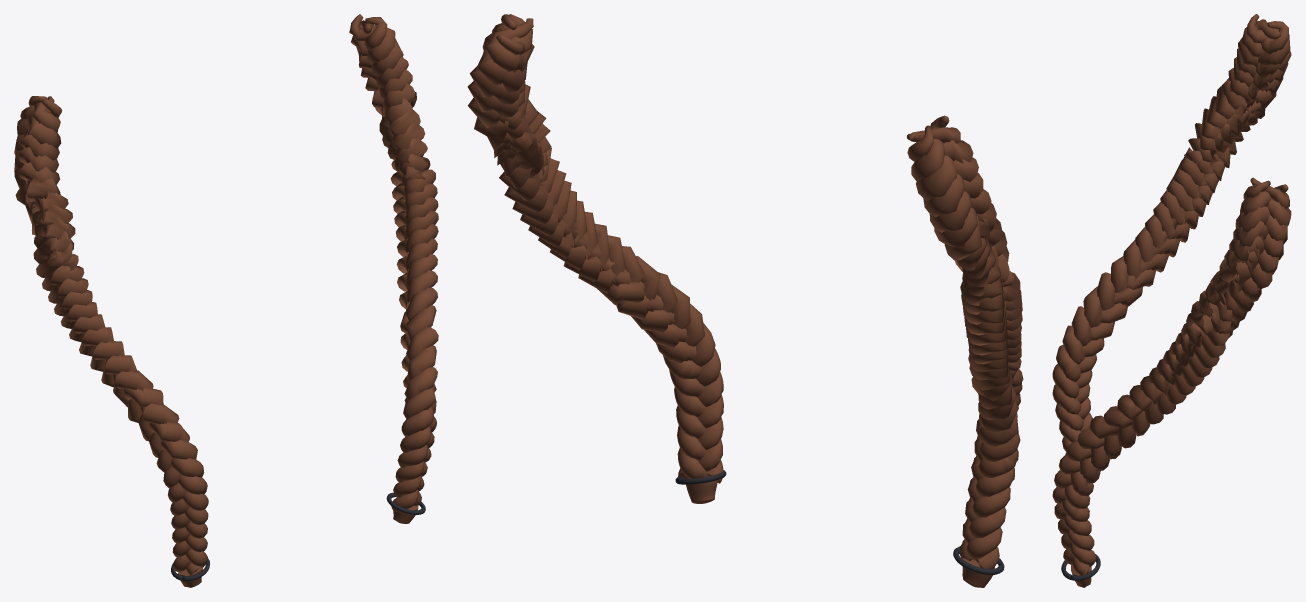
File: twins-none-sweatshirt-default.glb
The picture shows the model from 3 angles, left to right: view 1: azimuth 30°, elevation 25°; view 2: azimuth 150°, elevation 25°; view 3: azimuth 270°, elevation 25°; orthographic projection. The views are drawn at different scales.
Visible parts, largest first — view 1: 226 hairLengths / Hair / chestnut226, 226 hairLengths / Hair / ties226; view 2: 226 hairLengths / Hair / chestnut226, 226 hairLengths / Hair / ties226; view 3: 226 hairLengths / Hair / chestnut226, 226 hairLengths / Hair / ties226.
Boxes of the visible parts, x1,y1,x2,y2 form: 226 hairLengths / Hair / chestnut226: [14, 14, 438, 587]; 226 hairLengths / Hair / ties226: [171, 492, 425, 581]; 226 hairLengths / Hair / chestnut226: [467, 14, 1023, 587]; 226 hairLengths / Hair / ties226: [675, 470, 1004, 574]; 226 hairLengths / Hair / chestnut226: [1052, 14, 1291, 587]; 226 hairLengths / Hair / ties226: [1061, 470, 1100, 580].
Bounding box in the file's own units: 0.8712 × 0.9287 × 0.4503.
